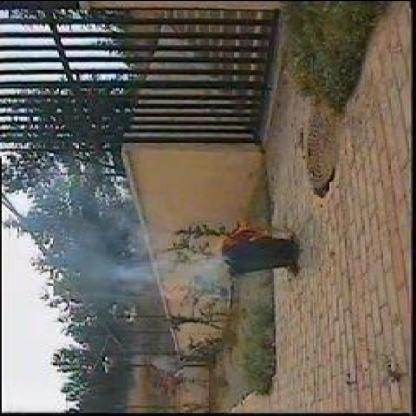-: (64, 246, 222, 294)
foggia-v2-map80-epoch100 - v1 4323: (224, 225, 264, 240)
